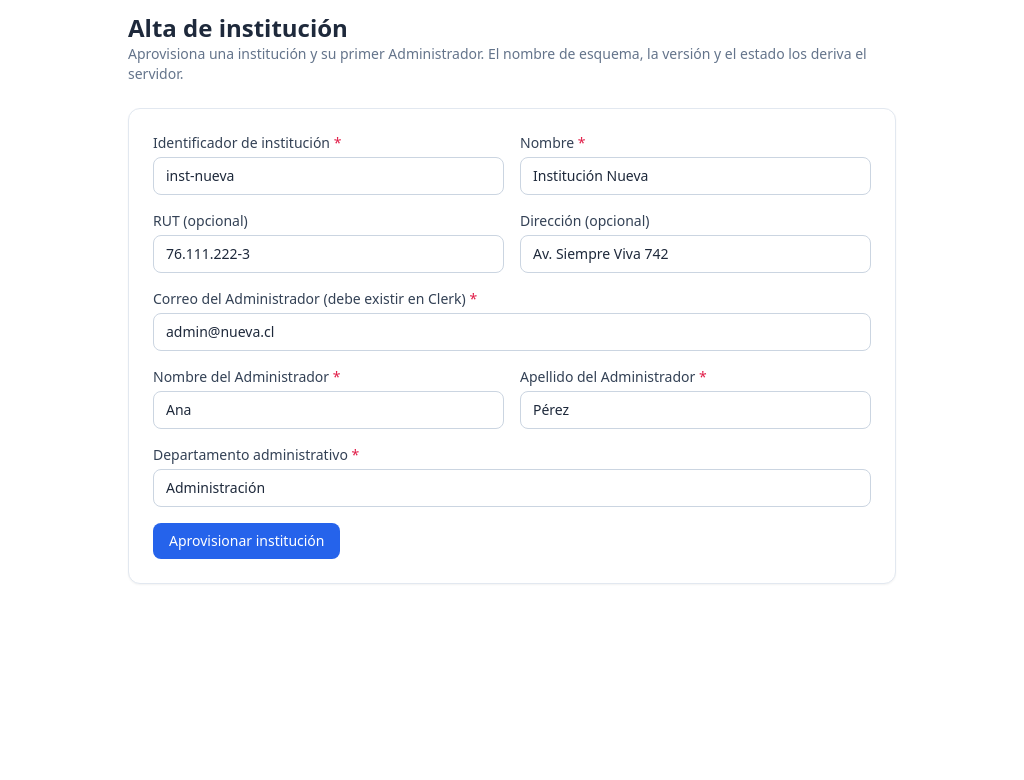
Test case: AltaInstitucionComponent › AC-7: en 201 informa el resultado operativo del servidor
This screenshot has width=1024, height=780.
Click the submit button at point(247, 541), box [153,523,340,559]
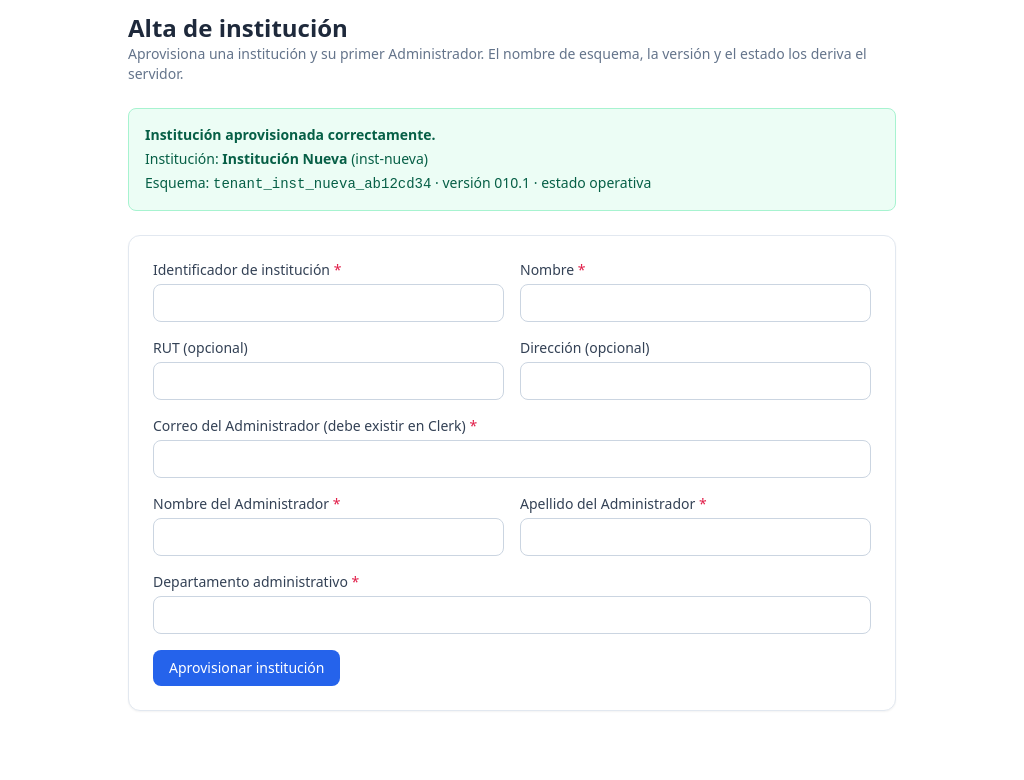
expect the text "tenant_inst_nueva_ab12cd34" is shown: met, box [213,176,431,192]
expect the text "010.1" is shown: met, box [431,173,651,192]
expect the text "operativa" is shown: met, box [431,173,651,192]
